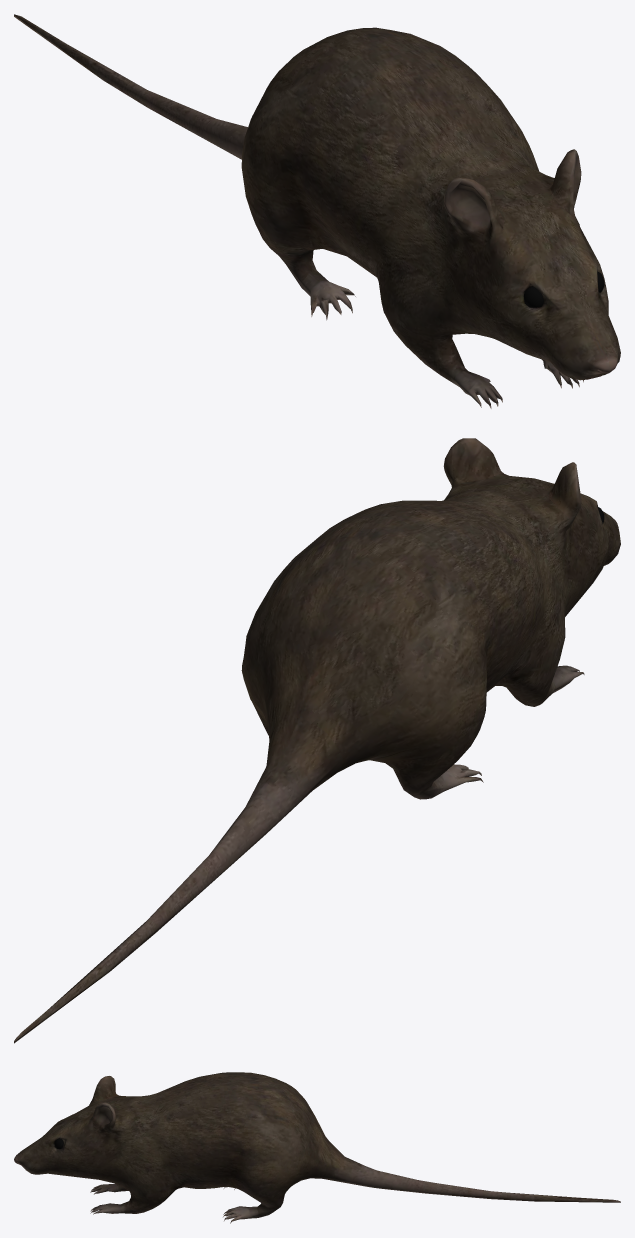
File: street-rat.glb
3 views of the same model, one above another, from view 1: azimuth 30°, elevation 25°; view 2: azimuth 150°, elevation 25°; view 3: azimuth 270°, elevation 25° (orthographic). The views are drawn at different scales.
Parts seen in each view (by area): view 1: street_rat; view 2: street_rat; view 3: street_rat.
Boxes of the visible parts, <box> form: street_rat: <box>14,14,620,408</box>; street_rat: <box>14,438,620,1043</box>; street_rat: <box>14,1072,620,1223</box>.
Size of the model in its own units: 0.0319 by 0.0338 by 0.1483.
Materials: 1 (1 with a texture image).
